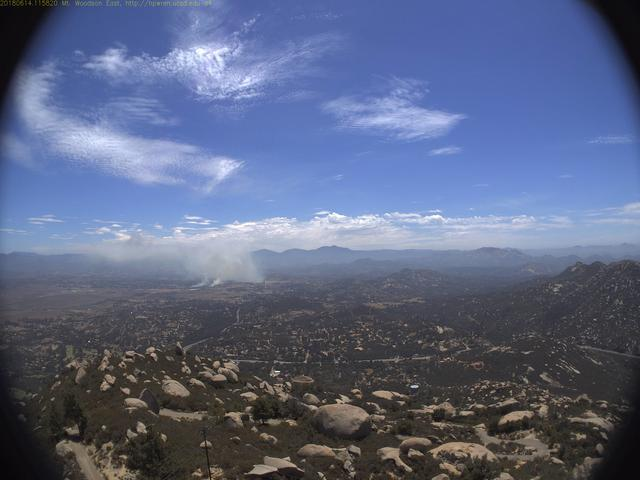smoke: (99, 225, 267, 292)
